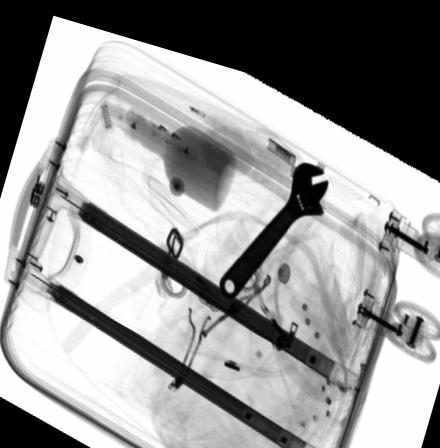Wrench: (218, 143, 328, 286)
